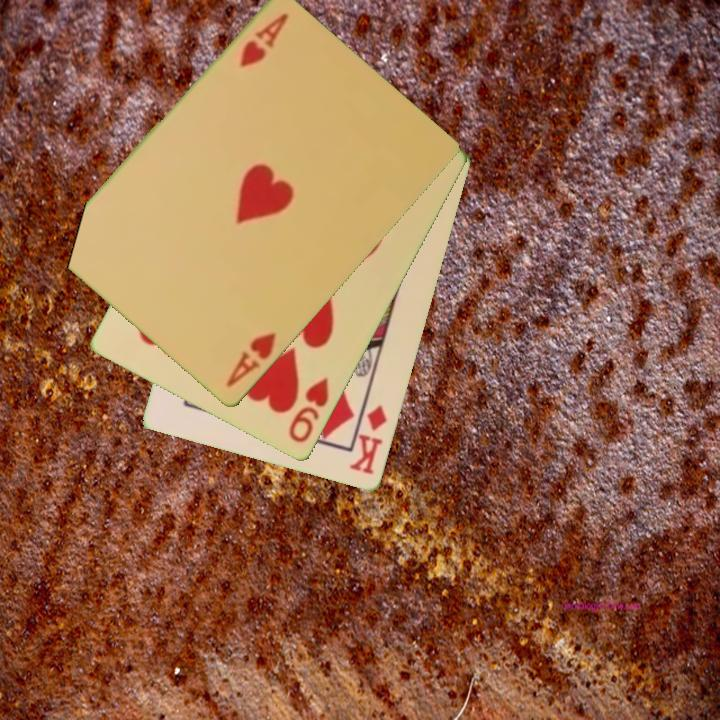9h: (285, 374, 333, 447)
Ah: (222, 329, 280, 391), (236, 10, 292, 72)
Kd: (346, 402, 391, 478)
